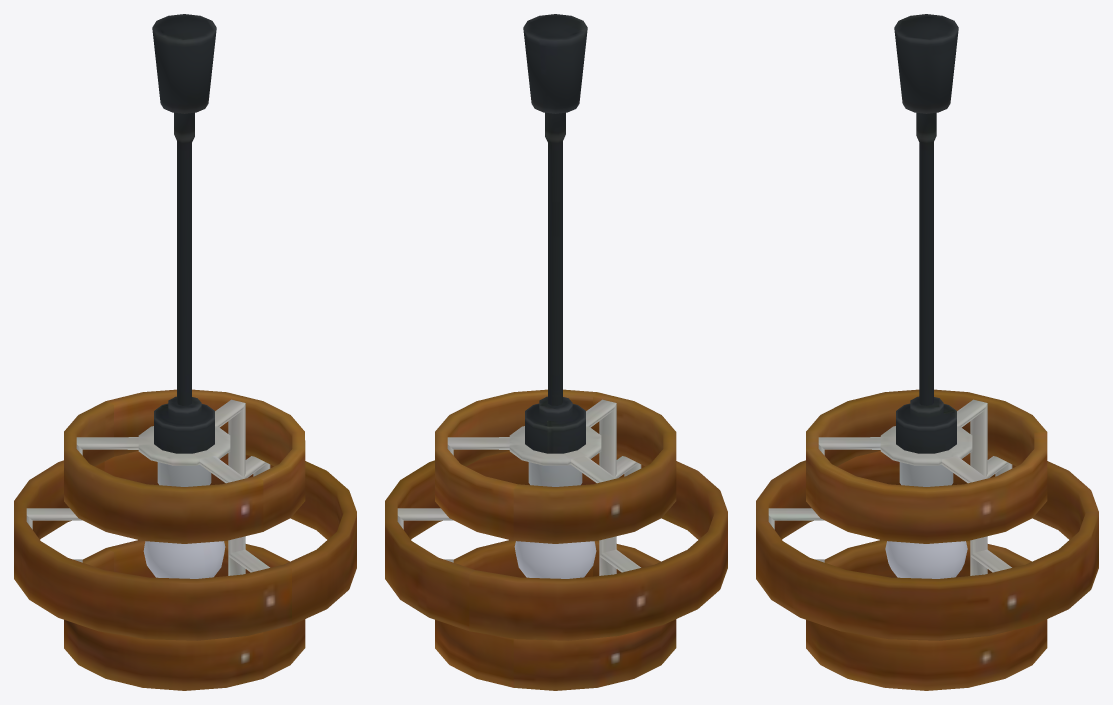
The picture shows the model from 3 angles, left to right: view 1: azimuth 30°, elevation 25°; view 2: azimuth 150°, elevation 25°; view 3: azimuth 270°, elevation 25°; orthographic projection.
Bounding box in the file's own units: 7.14 × 14.01 × 7.12.
1 material, 1 textured.
